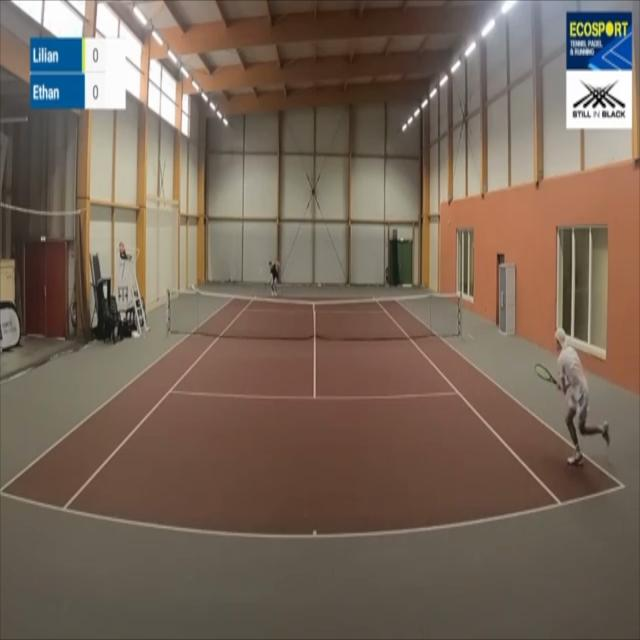ball: (260, 268, 262, 272)
